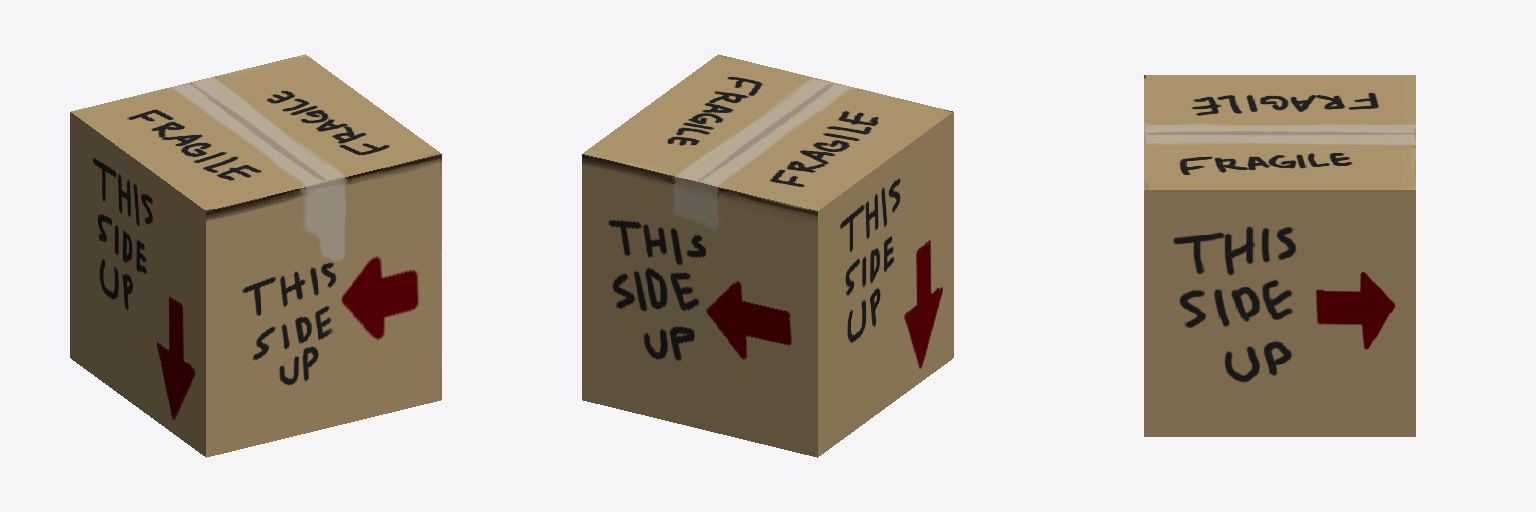
3 renders of one model, left to right at view 1: azimuth 30°, elevation 25°; view 2: azimuth 150°, elevation 25°; view 3: azimuth 270°, elevation 25°, orthographic.
Visible parts, largest first — view 1: Cube; view 2: Cube; view 3: Cube.
Part boxes in pixels (bbox=[...]): Cube: bbox=[70, 54, 441, 457]; Cube: bbox=[582, 54, 953, 457]; Cube: bbox=[1144, 75, 1415, 436].
Bounding box in the file's own units: 2 × 2 × 2.
Materials: 1 (1 with a texture image).